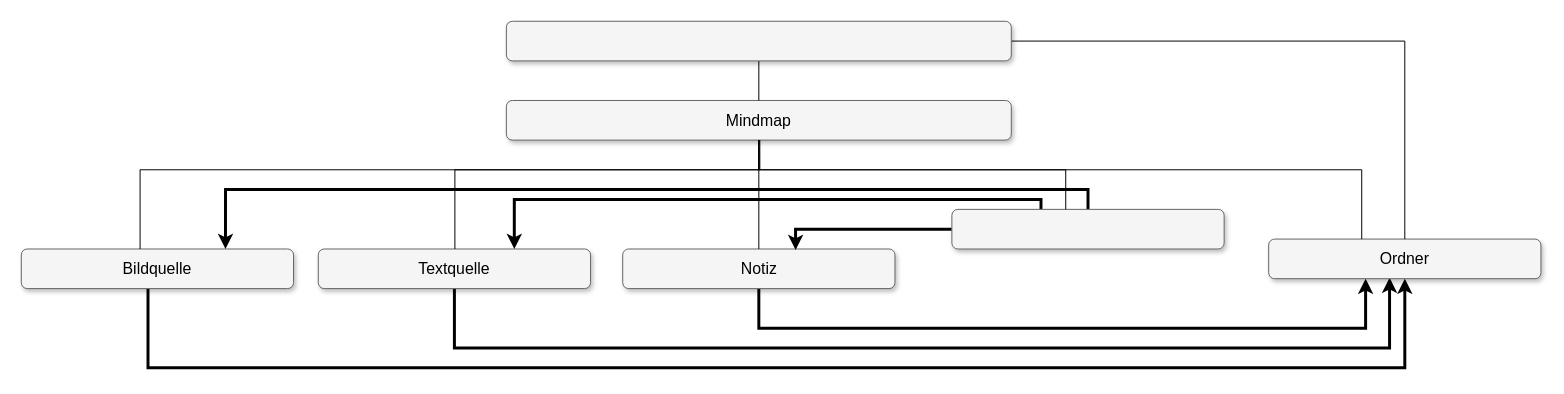
The diagram is 1564 pixels wide and 394 high, and some of its shapes have lost their labels. The shapes that lost their labels are listed below. From the top down, each one's centre as x and y in pixels, then its label:
At pixel 759 42: "Projekt".
At pixel 1088 230: "Themenbereich".
